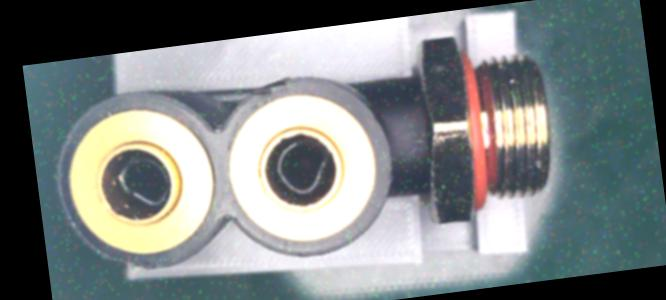off-centered: (269, 132, 339, 198), (108, 150, 177, 215)
white mark: (403, 143, 423, 163)
